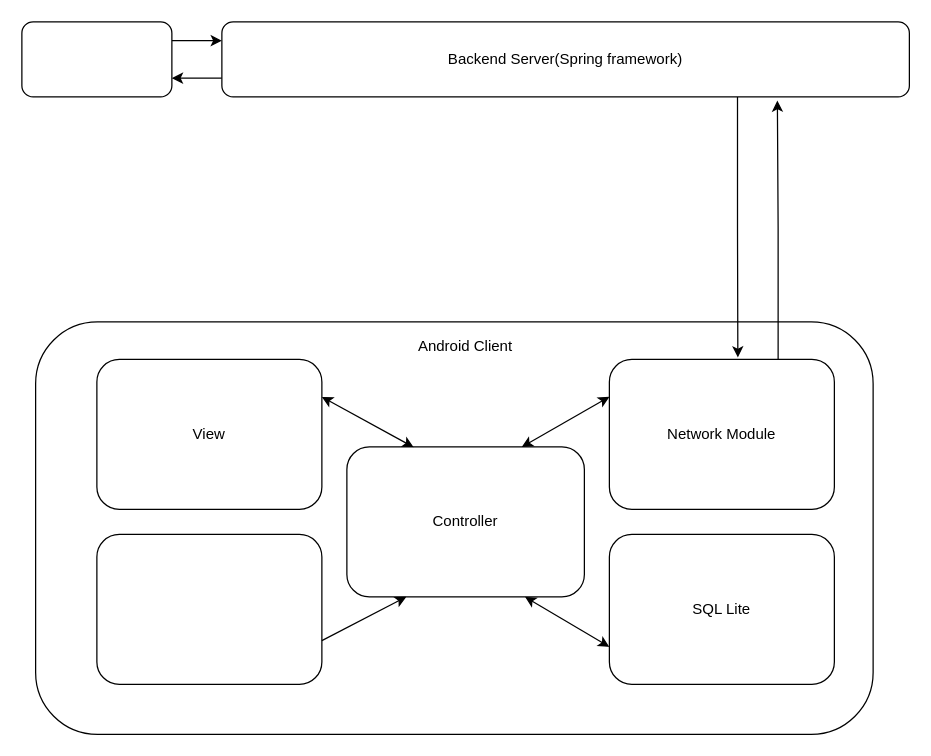
This 931x756 diagram has some shape labels left out. Each missing label, with the centre of its shape:
"App permission collector" belongs at [209,608].
"DB" belongs at [96,59].
